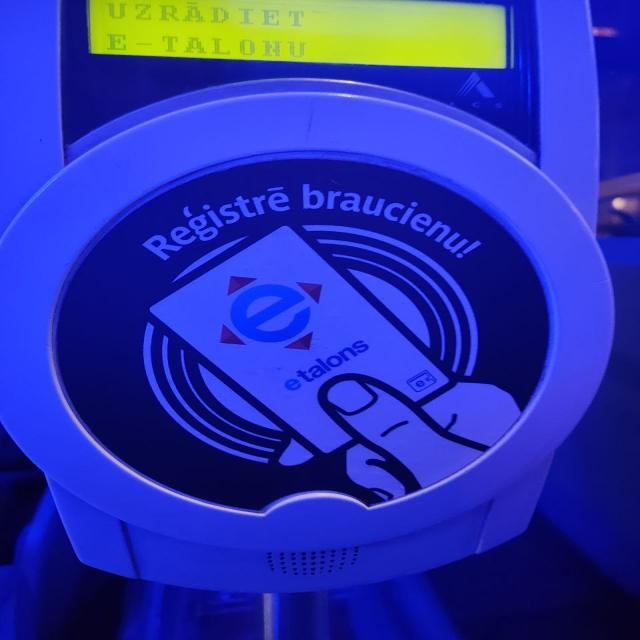Circle: (2, 89, 618, 550)
